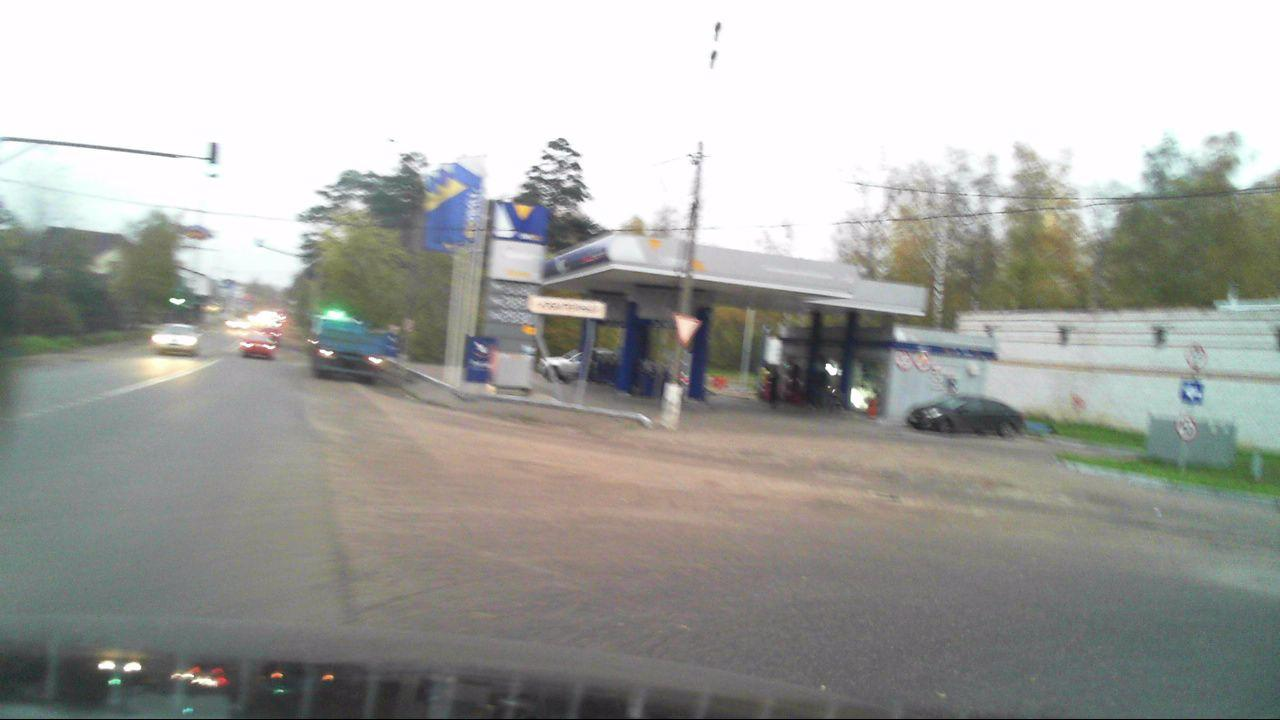2_4: (671, 311, 701, 347)
3_13: (1185, 341, 1212, 373)
3_24: (1176, 417, 1200, 442)
5_5: (1178, 377, 1204, 406)
